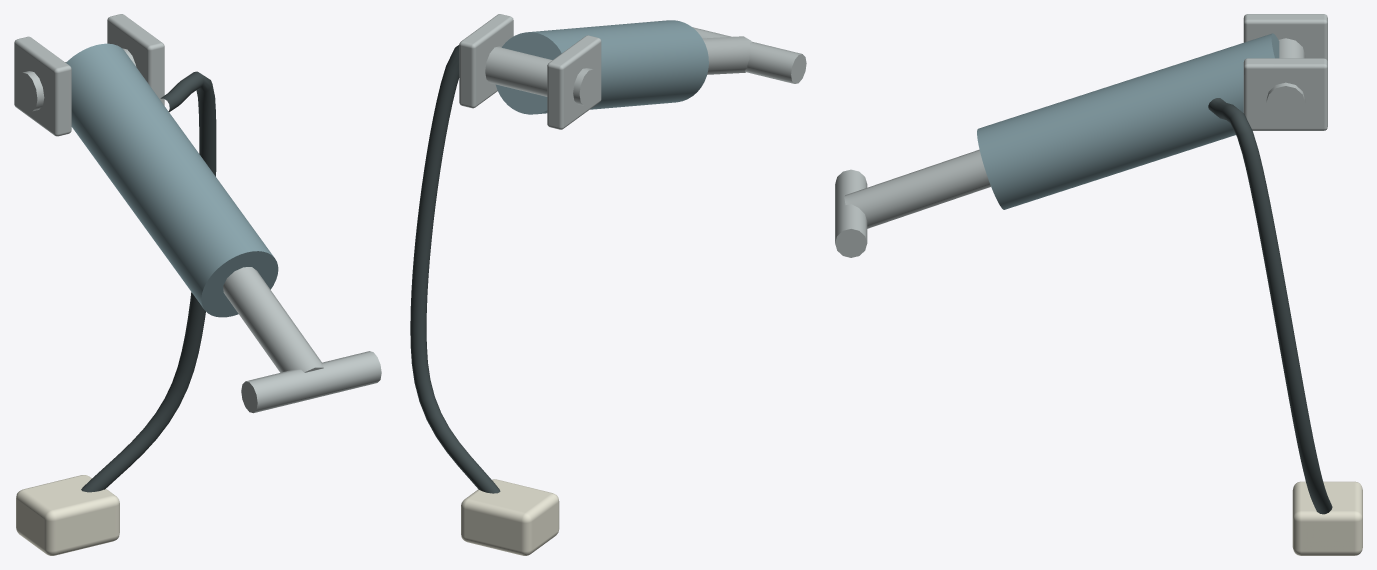
File: abandoned-tidal-model-testing-hall-paddle-linear-actua-99beb929__32340.glb
3 views of the same model, side by side, from view 1: azimuth 30°, elevation 25°; view 2: azimuth 150°, elevation 25°; view 3: azimuth 270°, elevation 25° (orthographic). The views are drawn at different scales.
Parts seen in each view (by area): view 1: paddle-linear-actuator; view 2: paddle-linear-actuator; view 3: paddle-linear-actuator.
Part boxes in pixels (left/top/right/bottom): paddle-linear-actuator: left=14, top=14, right=381, bottom=555; paddle-linear-actuator: left=410, top=14, right=806, bottom=555; paddle-linear-actuator: left=835, top=14, right=1362, bottom=555.
Size of the model in its own units: 0.2954 by 0.7924 by 0.753.
